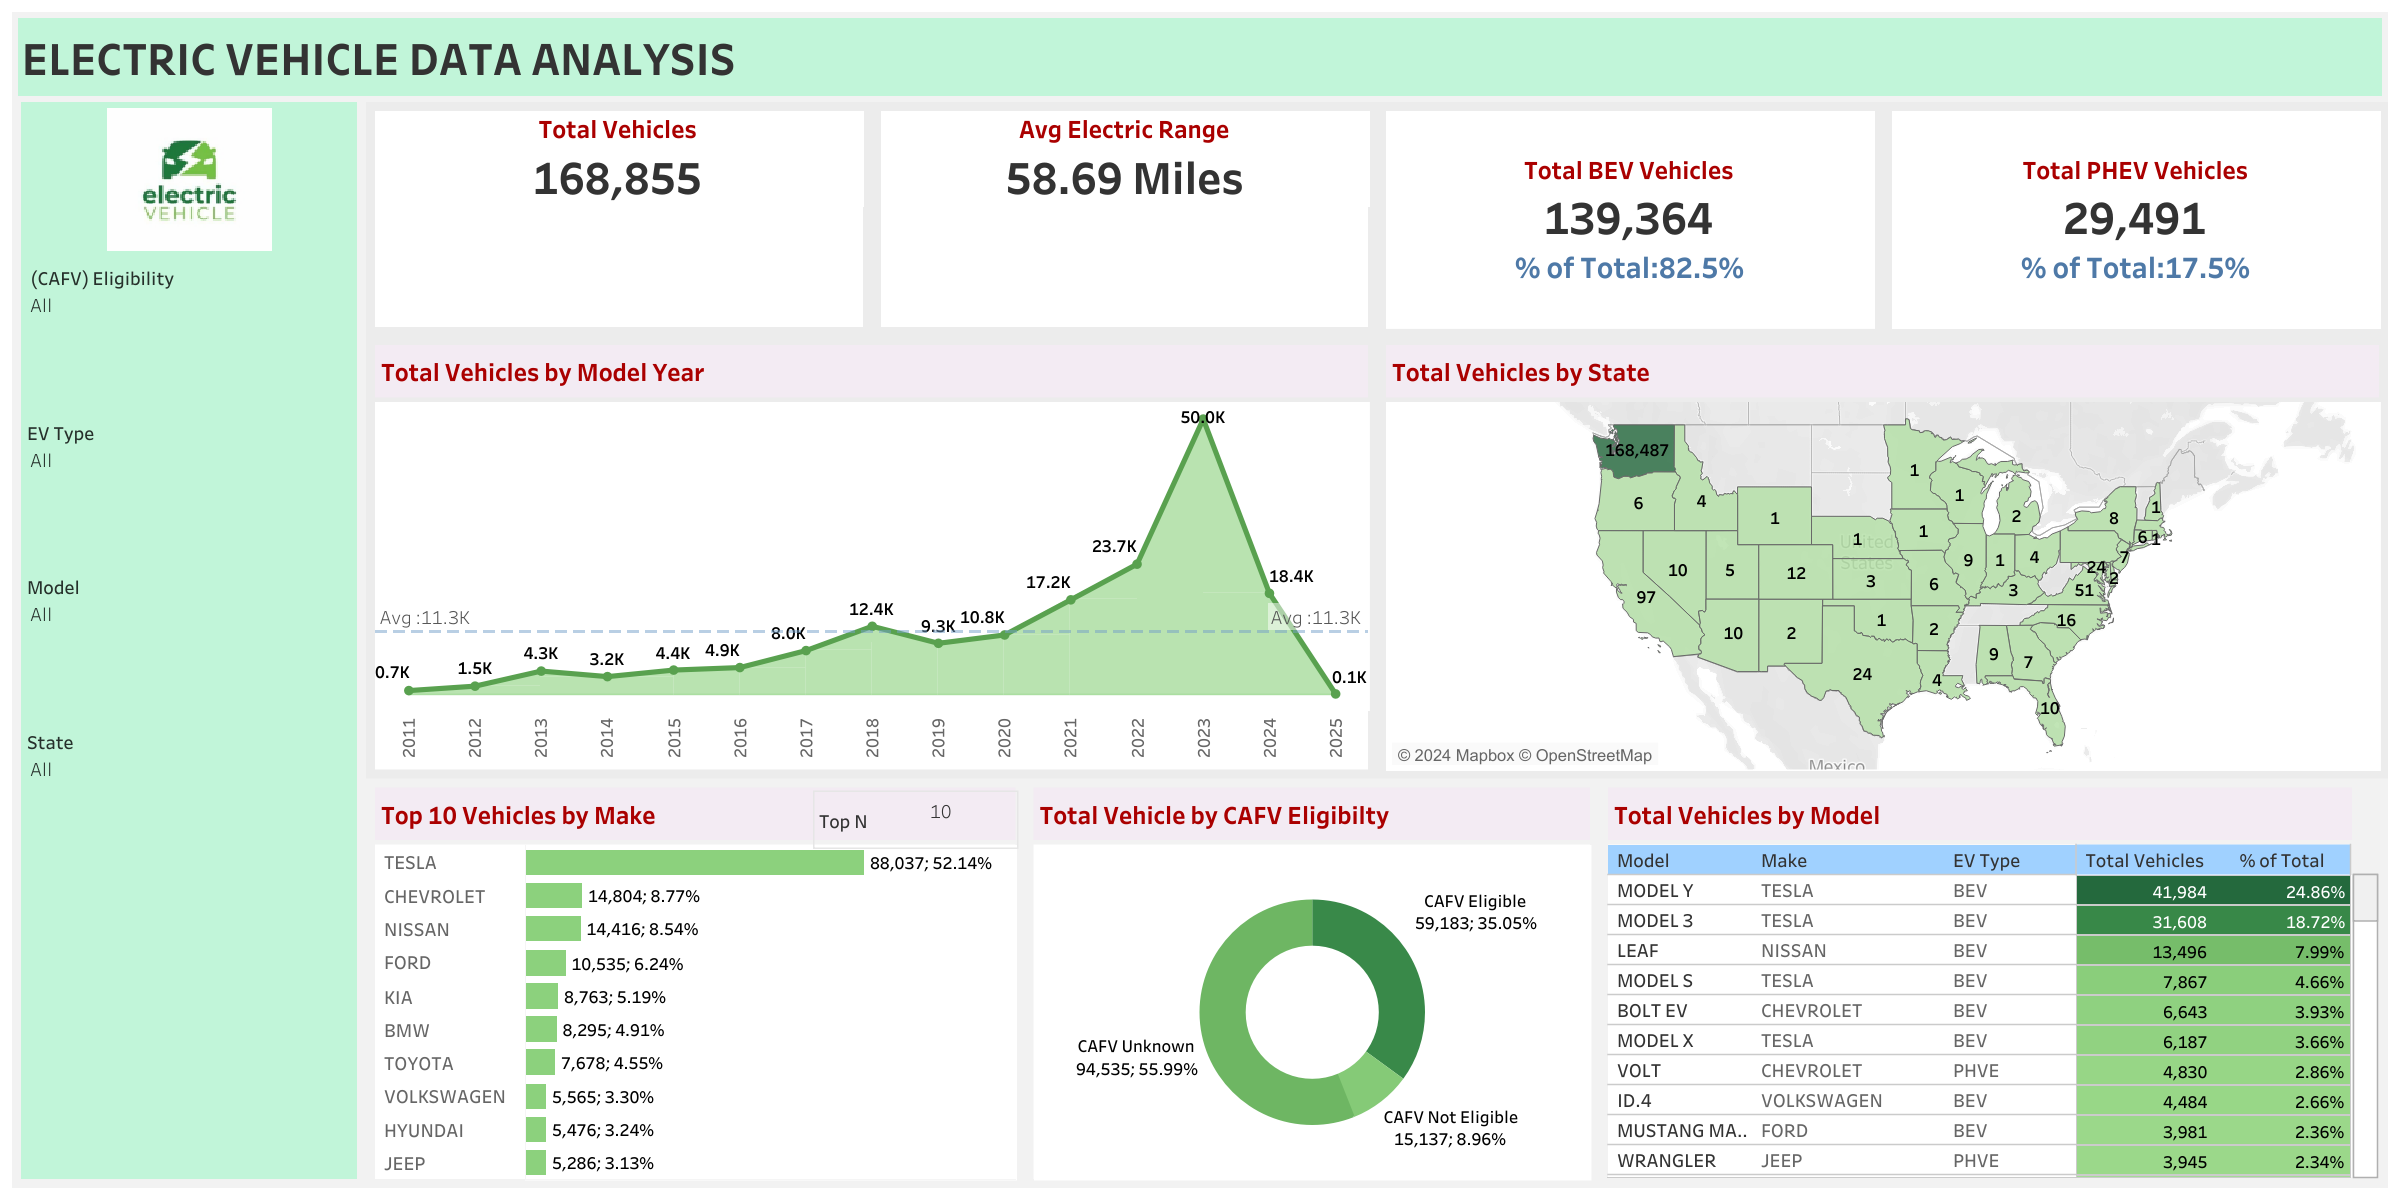

The dashboard page shown, as its layout file describes it:
{"tool":"tableau","page":{"name":"ELECTRIC VEHICLE DATA ANALYSIS","canvas":[1600,800],"ordinal":0},"visuals":[{"type":"title","box":[8,8,1584,60]},{"type":"image","param":"Image/Screenshot_27-8-2024_125425_www.bing.com.jpeg","box":[14,68,224,103]},{"type":"worksheet","title":"Total Vehicles","mark":"Automatic","box":[244,68,337,156]},{"type":"worksheet","title":"Avg Electric Range","mark":"Automatic","box":[581,68,337,156]},{"type":"worksheet","title":"Total BEV Vehicles","mark":"Automatic","box":[918,68,337,156]},{"type":"worksheet","title":"Total PHEV Vehicles","mark":"Automatic","box":[1255,68,337,156]},{"type":"filter","title":"Total Vehicles by Model Year","param":"[federated.0byosxj19p11ru1cvnn4u13ly653].[none:Clean Alternative Fuel Vehicle (C","box":[14,171,224,103]},{"type":"worksheet","title":"Total Vehicles by Model Year","mark":"Area","rows":["Calculation_1020628320403595264","Calculation_1020628320403595264"],"cols":["Model Year"],"box":[244,224,674,295]},{"type":"worksheet","title":"Total Vehicles by State","mark":"Multipolygon","box":[918,224,674,295]},{"type":"filter","title":"Total Vehicles by Model Year","param":"[federated.0byosxj19p11ru1cvnn4u13ly653].[none:Electric Vehicle Type:nk]","box":[14,274,224,103]},{"type":"filter","title":"Total Vehicles by Model Year","param":"[federated.0byosxj19p11ru1cvnn4u13ly653].[none:Model:nk]","box":[14,377,224,103]},{"type":"filter","title":"Total Vehicles by Model Year","param":"[federated.0byosxj19p11ru1cvnn4u13ly653].[none:State:nk]","box":[14,480,224,102]},{"type":"worksheet","title":"Top 10 Vehicles by Make","mark":"Automatic","rows":["Make"],"cols":["Calculation_1020628320403595264"],"box":[244,519,439,273]},{"type":"worksheet","title":"Total Vehicle by CAFV Eligibilty","mark":"Pie","rows":["Calculation_1020628320425533447","Calculation_1020628320425533447"],"box":[683,519,383,273]},{"type":"worksheet","title":"Total Vehicles by Model","mark":"Square","rows":["Model","Make","Electric Vehicle Type"],"box":[1066,519,526,273]},{"type":"parameter","param":"[Parameters].[Parameter 1]","box":[542,527,137,39]},{"type":"blank","box":[14,582,224,102]},{"type":"blank","box":[14,684,224,102]}]}

Visuals, with their boxes in screenshot pixels (x1, y1, x2, y2), scaled from the page's 1600x800 canvas onto the 2399x1199 screenshot:
title: (12,12,2387,102)
image: (21,102,357,256)
"Total Vehicles" worksheet: (366,102,871,336)
"Avg Electric Range" worksheet: (871,102,1376,336)
"Total BEV Vehicles" worksheet: (1376,102,1882,336)
"Total PHEV Vehicles" worksheet: (1882,102,2387,336)
"Total Vehicles by Model Year" filter: (21,256,357,411)
"Total Vehicles by Model Year" worksheet (Area marks): (366,336,1376,778)
"Total Vehicles by State" worksheet (Multipolygon marks): (1376,336,2387,778)
"Total Vehicles by Model Year" filter: (21,411,357,565)
"Total Vehicles by Model Year" filter: (21,565,357,719)
"Total Vehicles by Model Year" filter: (21,719,357,872)
"Top 10 Vehicles by Make" worksheet: (366,778,1024,1187)
"Total Vehicle by CAFV Eligibilty" worksheet (Pie marks): (1024,778,1598,1187)
"Total Vehicles by Model" worksheet (Square marks): (1598,778,2387,1187)
parameter: (813,790,1018,848)
blank: (21,872,357,1025)
blank: (21,1025,357,1178)
